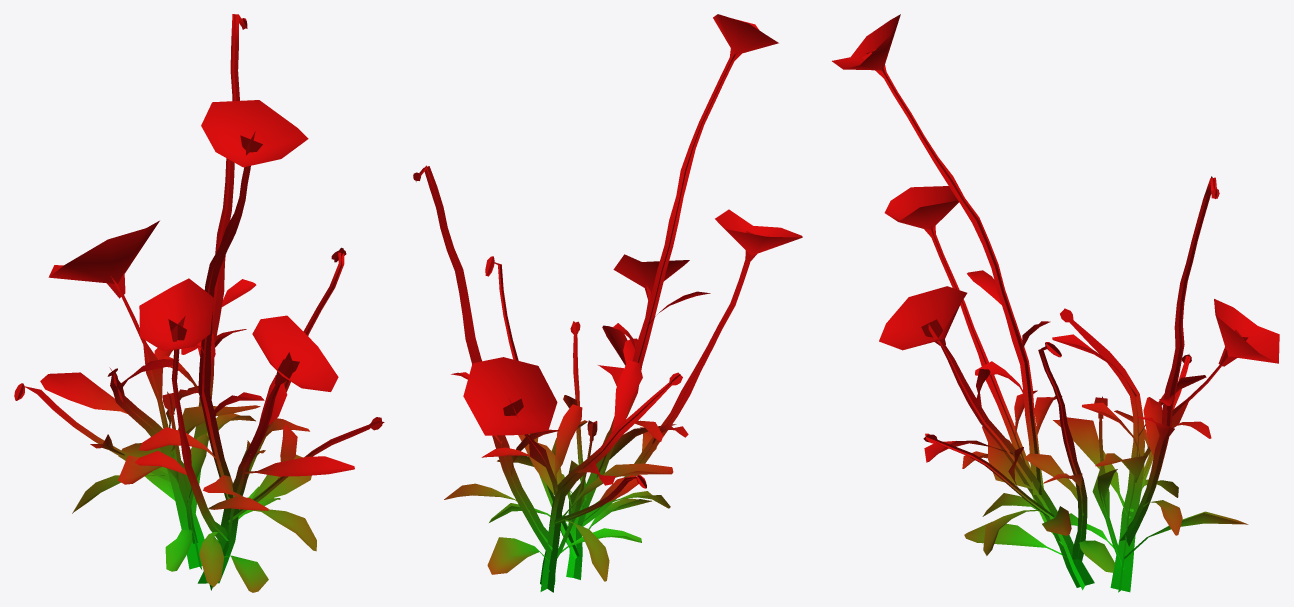
Rendered from Field Poppy_LOD2_Var5_vmcobd0ja.fbx.
3 views of the same model, side by side, from view 1: azimuth 30°, elevation 25°; view 2: azimuth 150°, elevation 25°; view 3: azimuth 270°, elevation 25° (orthographic). The views are drawn at different scales.
Visible parts, largest first — view 1: _m3bc_Var5_LOD2; view 2: _m3bc_Var5_LOD2; view 3: _m3bc_Var5_LOD2.
Boxes of the visible parts, bbox=[...] form: _m3bc_Var5_LOD2: bbox=[14, 14, 384, 592]; _m3bc_Var5_LOD2: bbox=[413, 14, 802, 592]; _m3bc_Var5_LOD2: bbox=[832, 14, 1279, 592].
Bounding box in the file's own units: 38.96 × 76.9 × 58.79.
